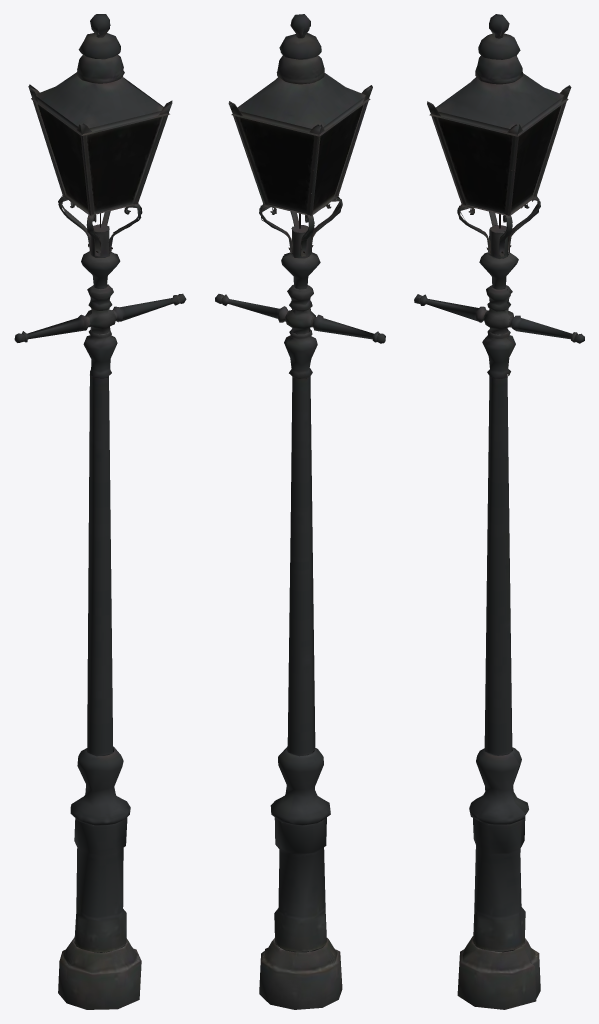
File: gaslamp.glb
3 renders of one model, left to right at view 1: azimuth 30°, elevation 25°; view 2: azimuth 150°, elevation 25°; view 3: azimuth 330°, elevation 25°, orthographic.
Visible parts, largest first — view 1: street_lamp_01; view 2: street_lamp_01; view 3: street_lamp_01.
Boxes of the visible parts, x1,y1,x2,y2 form: street_lamp_01: (14,14,186,1009); street_lamp_01: (215,14,385,1009); street_lamp_01: (414,14,584,1009).
Bounding box in the file's own units: 0.7034 × 3.87 × 0.3842.
3 materials, 3 textured.
